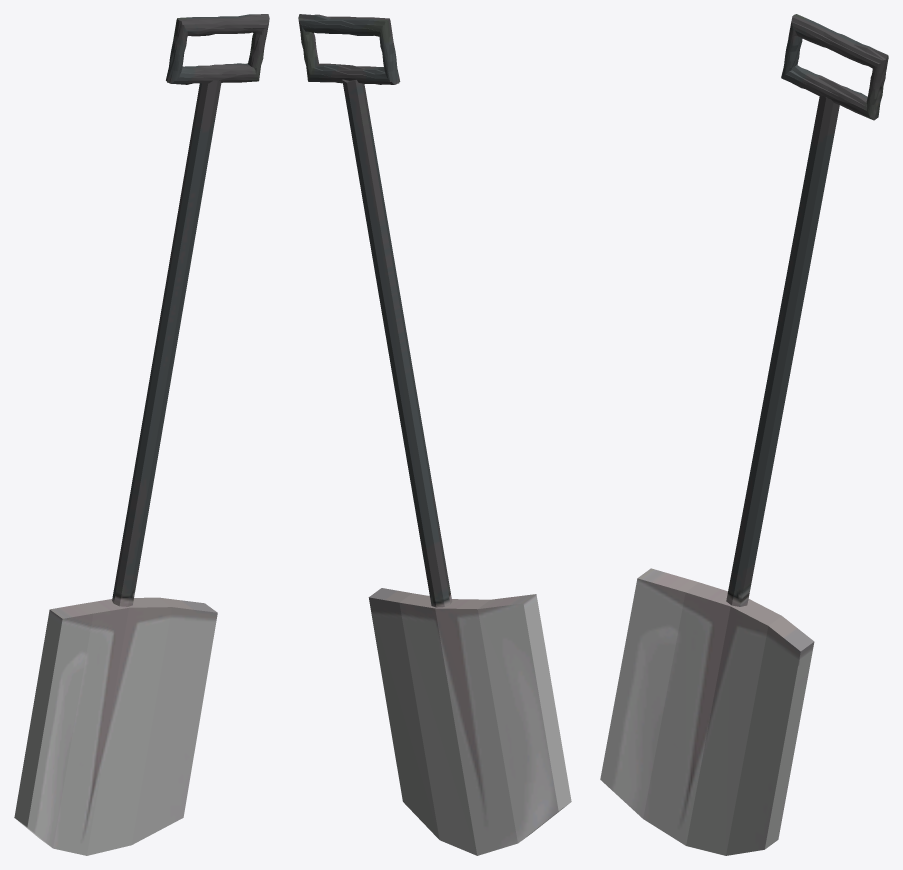
Rendered from Shovel.glb.
3 renders of one model, left to right at view 1: azimuth 30°, elevation 25°; view 2: azimuth 150°, elevation 25°; view 3: azimuth 330°, elevation 25°, orthographic. The views are drawn at different scales.
Parts seen in each view (by area): view 1: Shovel; view 2: Shovel; view 3: Shovel.
Part boxes in pixels (x1,y1,x2,y2): Shovel: (14,14,269,855); Shovel: (298,14,571,855); Shovel: (600,14,888,855).
Size of the model in its own units: 196 by 589 by 31.71.
1 material, 1 textured.
